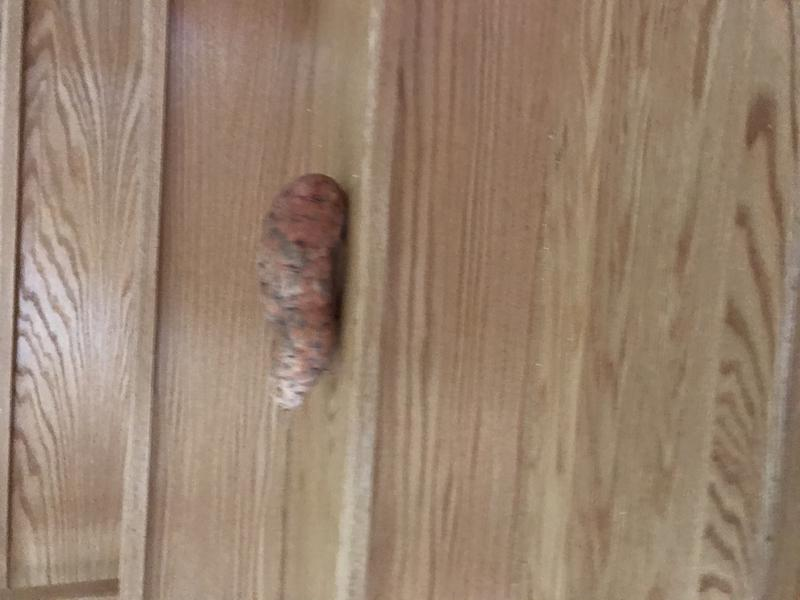sweet_potato: (248, 165, 357, 419)
